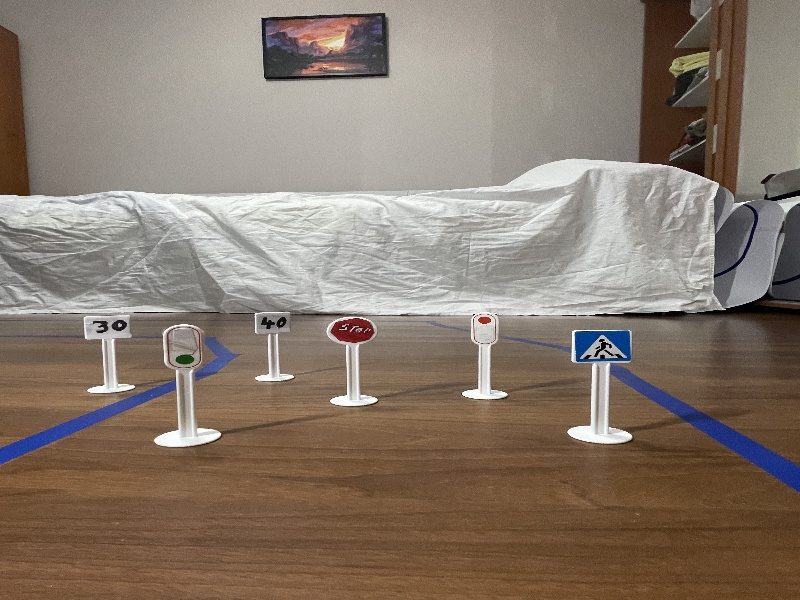semafor_rosu: (465, 304, 504, 348)
semafor_verde: (159, 318, 206, 371)
stop: (322, 307, 386, 351)
trecere_pietoni: (566, 324, 650, 372)
viteza_limita_30: (75, 308, 138, 347)
viteza_limita_40: (251, 304, 298, 338)
